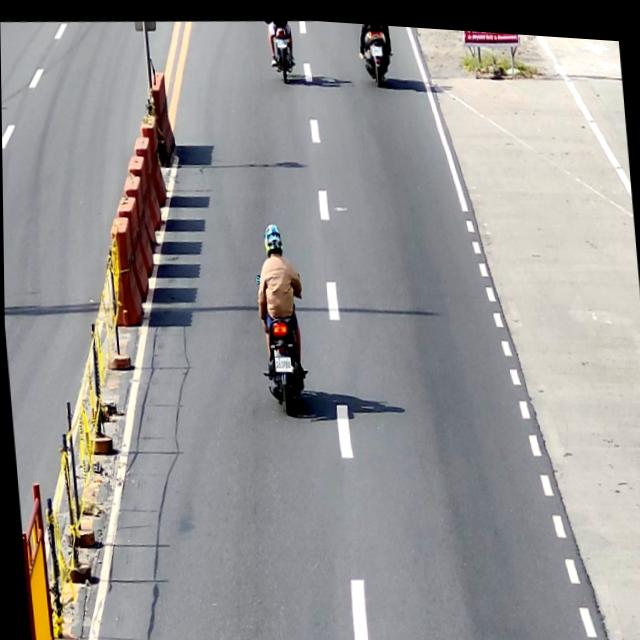License-Plate: (272, 350, 293, 373), (369, 34, 384, 54), (274, 30, 290, 48)
Motorcycle: (253, 268, 310, 415), (358, 19, 394, 83), (268, 18, 296, 80)
